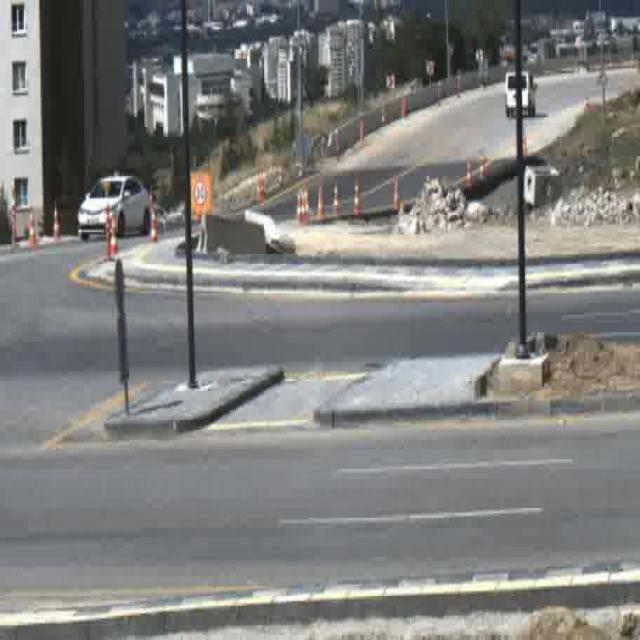Car: (77, 175, 151, 241), (506, 71, 534, 117)
